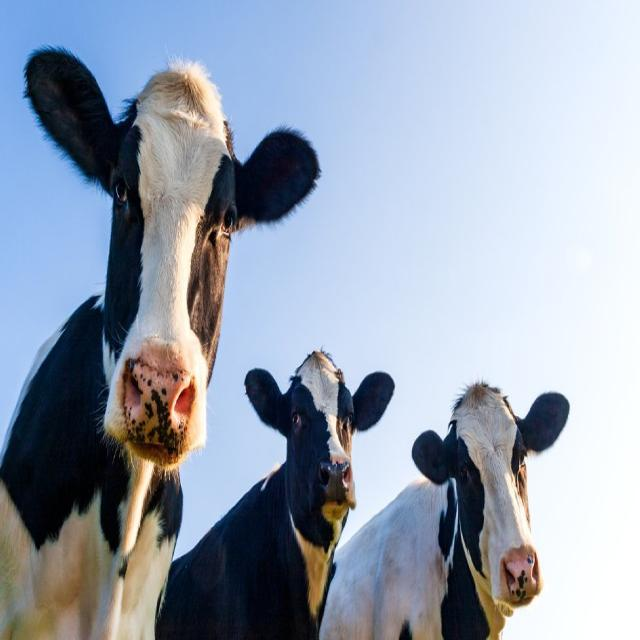cow: (112, 103, 232, 463), (430, 360, 557, 634), (286, 323, 379, 561)
